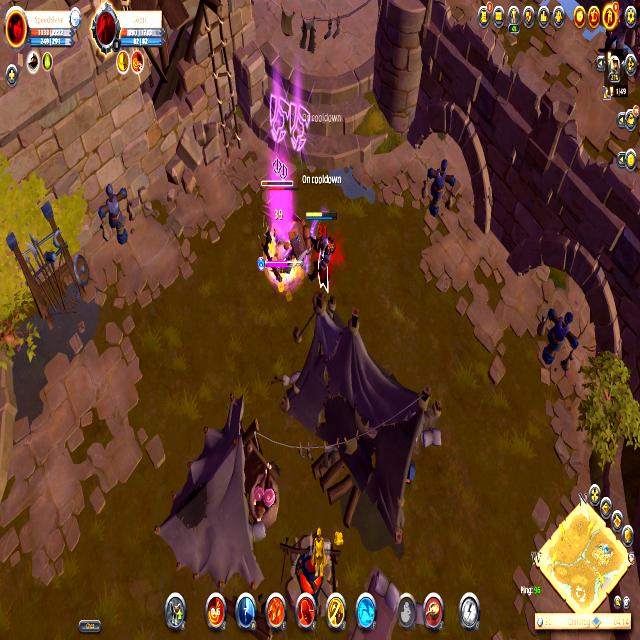ore: (254, 160, 300, 291)
red: (305, 207, 340, 280)
